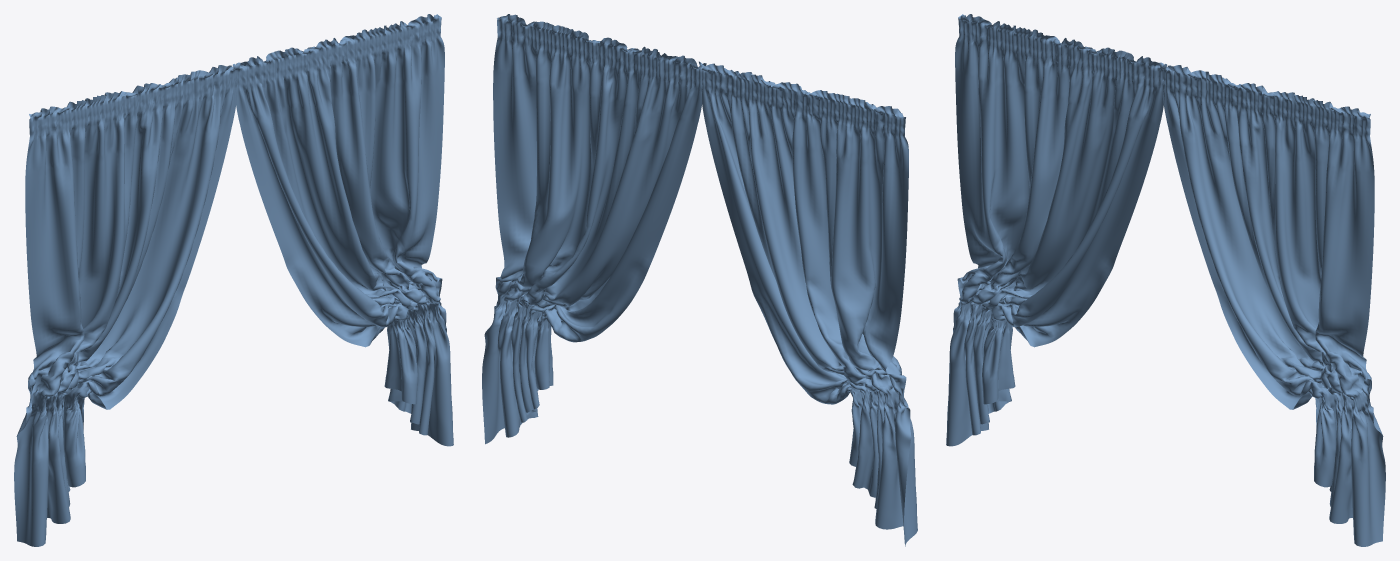
File: kinkiTypeOneDefoult9.gltf
3 renders of one model, left to right at view 1: azimuth 30°, elevation 25°; view 2: azimuth 150°, elevation 25°; view 3: azimuth 330°, elevation 25°, orthographic.
Visible parts, largest first — view 1: kinkiTypeOneDefoult9; view 2: kinkiTypeOneDefoult9; view 3: kinkiTypeOneDefoult9.
Boxes of the visible parts, x1,y1,x2,y2 form: kinkiTypeOneDefoult9: (14,14,453,546); kinkiTypeOneDefoult9: (482,14,917,546); kinkiTypeOneDefoult9: (946,14,1385,546).
Bounding box in the file's own units: 2.92 × 2.81 × 0.3124.
